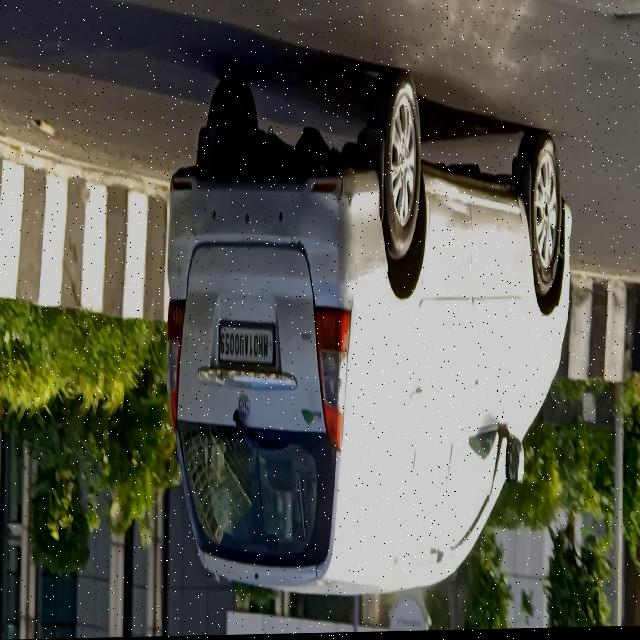plate: (218, 324, 275, 373)
